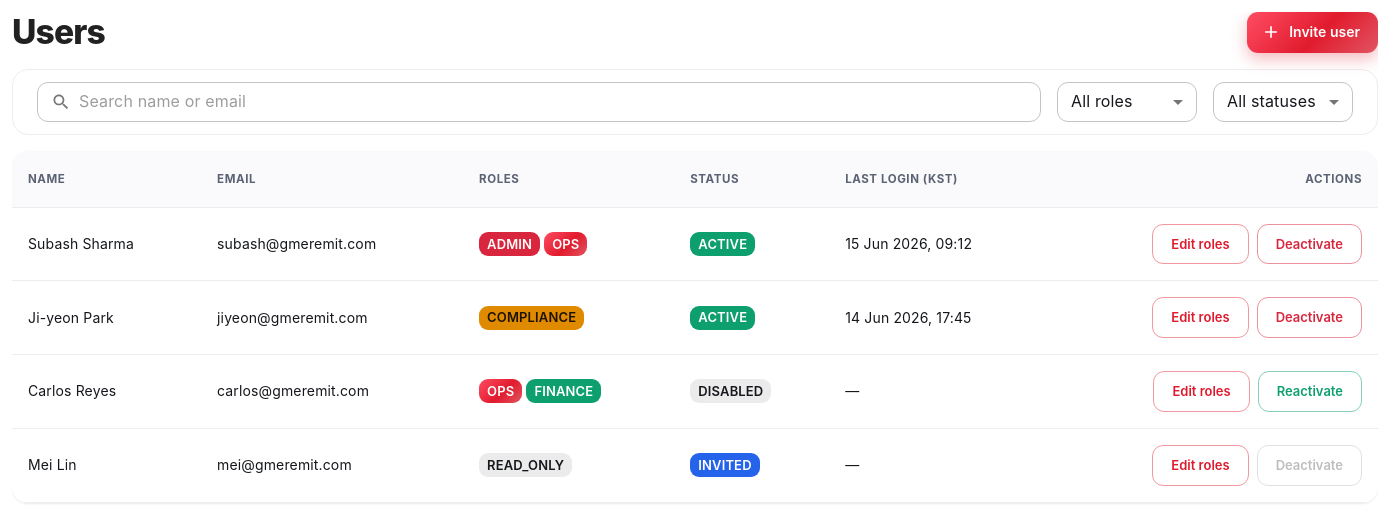
Test case: UsersPage › status filter hides rows that do not match the selected status
The image size is (1390, 521).
What coordinates should you click on to do the following:
click the dropdown named "filter by status"
I would click on:
 (1271, 101)
Its box is [1227, 91, 1316, 111].
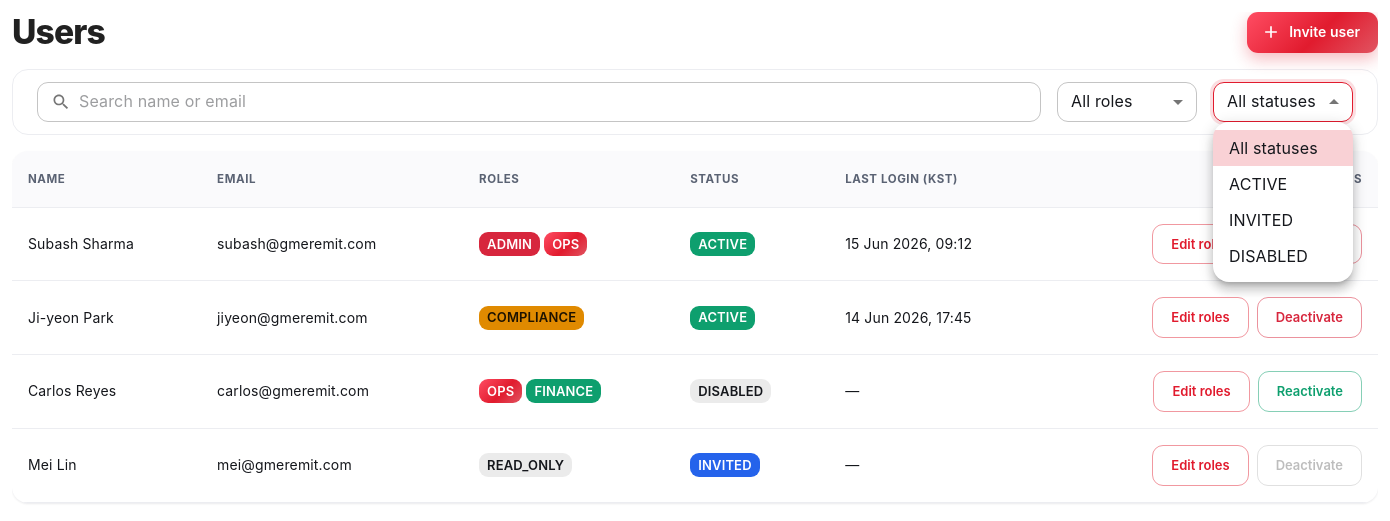
What coordinates should you click on to do the following:
click the option "DISABLED"
I would click on:
 (1268, 256)
Its box is [1229, 246, 1308, 266].
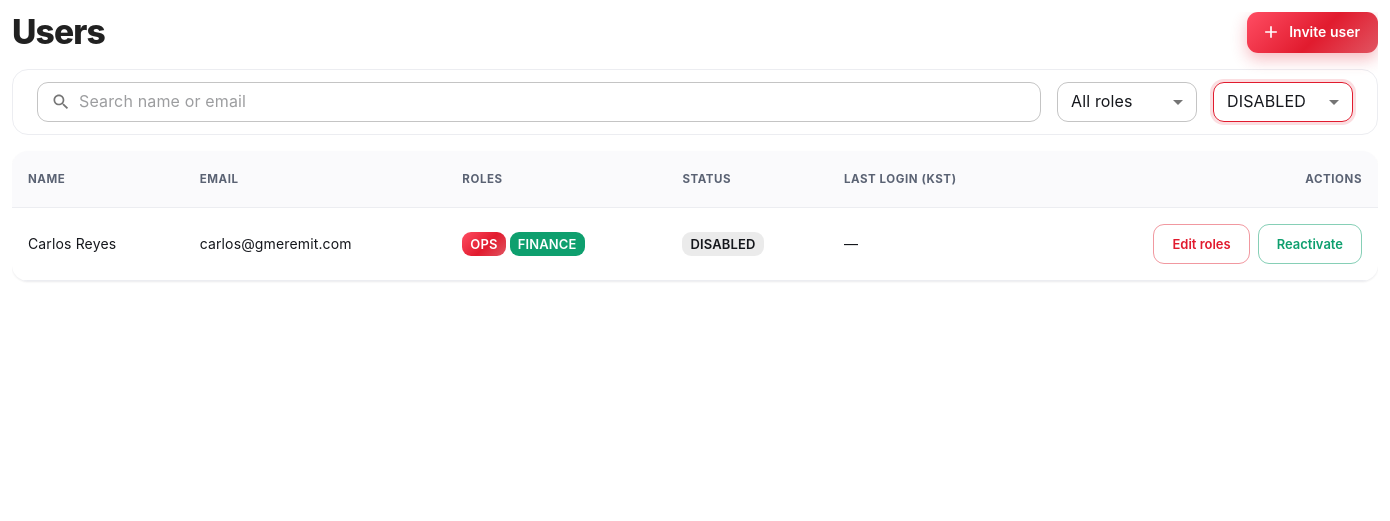
Expected: the text "Carlos Reyes" is shown, [12, 207, 184, 281]
Expected: the text "Subash Sharma" is gone
